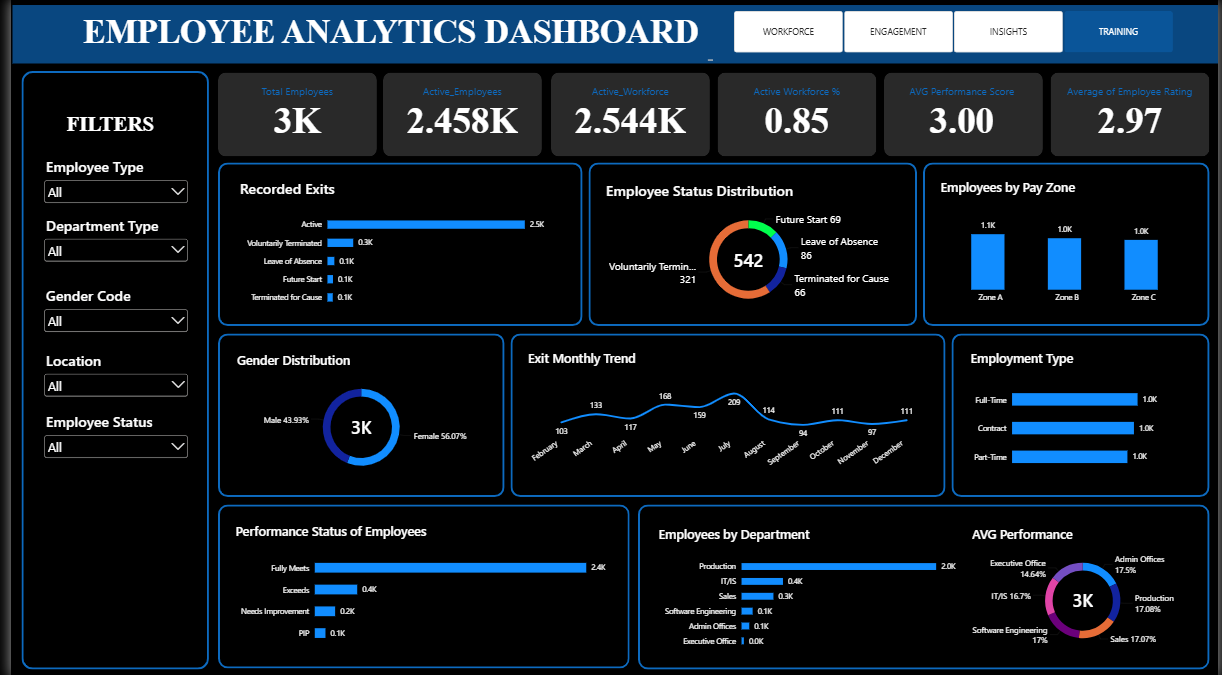

This screenshot's page, from the dashboard's own definition file:
{"tool":"powerbi","page":{"name":"WORKFORCE","canvas":[1920,1080],"ordinal":0},"visuals":[{"type":"group","id":"g1","title":"Group 2","box":[329.3,116.9,1577.1,133.6],"z":0},{"type":"shape","box":[1.7,9.5,1918.3,93.1],"z":1000},{"type":"textbox","title":"EMPLOYEE ANALYTICS DASHBOARD","box":[114.5,21.5,1002.1,76.3],"z":2000},{"type":"shape","box":[16.7,114.5,298.2,952],"z":3000},{"type":"group","id":"g2","title":"Group 3","box":[47.5,249.5,238.6,496.1],"z":4000},{"type":"slicer","fields":{"Values":["Employee_Data_Combined_and_Cleaned.Employee Type"]},"box":[47.7,249.5,238.1,90.7],"z":4000,"group":"g2"},{"type":"shape","box":[329.3,116.9,252.8,133.6],"z":5000,"group":"g3"},{"type":"textbox","title":"FILTERS","box":[88.3,178.9,150.3,45.3],"z":5000},{"type":"slicer","fields":{"Values":["Employee_Data_Combined_and_Cleaned.Department Type"]},"box":[47.7,343,238.1,90.7],"z":5000,"group":"g2"},{"type":"cardVisual","fields":{"Data":["Count(Employee_Data_Combined_and_Cleaned.Employee ID)"]},"box":[338.8,119.3,233.8,126.5],"z":6000},{"type":"slicer","fields":{"Values":["Employee_Data_Combined_and_Cleaned.Gender Code"]},"box":[47.7,453.6,238.1,90.7],"z":6000,"group":"g2"},{"type":"shape","box":[591.5,116.9,252.8,133.6],"z":7000,"group":"g3"},{"type":"cardVisual","fields":{"Data":["Employee_Data_Combined_and_Cleaned.Active_Employees"]},"box":[601.3,119.3,233.8,126.5],"z":7000},{"type":"slicer","fields":{"Values":["Employee_Data_Combined_and_Cleaned.Location"]},"box":[47.5,558.4,238.6,78.7],"z":7000,"group":"g2"},{"type":"shape","box":[858.4,116.9,252.8,133.6],"z":8000,"group":"g3"},{"type":"cardVisual","fields":{"Data":["Employee_Data_Combined_and_Cleaned.Active_Workforce"]},"box":[868.5,119.3,233.8,126.5],"z":8000},{"type":"slicer","fields":{"Values":["Employee_Data_Combined_and_Cleaned.Employee Status"]},"box":[47.7,654.9,238.1,90.7],"z":8000,"group":"g2"},{"type":"shape","box":[1122.9,116.9,252.8,133.6],"z":9000,"group":"g3"},{"type":"cardVisual","fields":{"Data":["Employee_Data_Combined_and_Cleaned.Active Workforce %"]},"box":[1133.3,119.3,233.8,126.5],"z":9000},{"type":"shape","box":[1387.5,116.9,252.8,133.6],"z":10000,"group":"g3"},{"type":"shape","box":[1653.5,116.9,252.9,133.6],"z":10000,"group":"g1"},{"type":"cardVisual","fields":{"Data":["Avg(Employee_Data_Combined_and_Cleaned.Performance Score)"]},"box":[1395.8,119.3,233.8,126.5],"z":10000},{"type":"cardVisual","fields":{"Data":["Avg(Employee_Data_Combined_and_Cleaned.Employee Rating)"]},"box":[1663,119.3,233.8,126.5],"z":11000},{"type":"group","id":"g3","title":"Group 1","box":[329.3,116.9,1311,133.6],"z":11001,"group":"g1"},{"type":"shape","box":[328.8,805,654.8,260.8],"z":12000},{"type":"shape","box":[329.3,260.1,579.8,260.1],"z":13000},{"type":"shape","box":[329.3,532.1,455.7,260.1],"z":14000},{"type":"shape","box":[918.6,260.1,522.5,260.1],"z":15000},{"type":"shape","box":[1450.6,260.1,455.7,260.1],"z":16000},{"type":"shape","box":[794.5,532.1,691.9,260.1],"z":17000},{"type":"shape","box":[1496,532.1,410.4,260.1],"z":18000},{"type":"shape","box":[997.3,804.1,909,262.5],"z":19000},{"type":"donutChart","title":"Non-Active Employee Status Breakdown","fields":{"Category":["Employee_Data_Combined_and_Cleaned.Employee Status"],"Y":["CountNonNull(Employee_Data_Combined_and_Cleaned.Employee ID)"]},"box":[929.8,275,484.7,235.3],"z":20000},{"type":"columnChart","title":"Employees by Pay Zone","fields":{"Category":["Employee_Data_Combined_and_Cleaned.Pay Zone"],"Y":["CountNonNull(Employee_Data_Combined_and_Cleaned.Employee ID)"]},"box":[1462.6,272,434.2,231.4],"z":21000},{"type":"lineChart","title":"Exit Monthly Trend","fields":{"Category":["Employee_Data_Combined_and_Cleaned.Exit Date.Variation.Date Hierarchy.Month"],"Y":["Count(Employee_Data_Combined_and_Cleaned.Employee ID)"]},"box":[806.4,544,656.1,231.4],"z":22000},{"type":"barChart","title":"Employment Type","fields":{"Category":["Employee_Data_Combined_and_Cleaned.Employee Type"],"Y":["Count(Employee_Data_Combined_and_Cleaned.Employee ID)"]},"box":[1510.3,544,386.5,231.4],"z":23000},{"type":"donutChart","title":"Gender Distribution","fields":{"Category":["Employee_Data_Combined_and_Cleaned.Gender Code"],"Y":["CountNonNull(Employee_Data_Combined_and_Cleaned.Employee ID)"]},"box":[343.6,546.4,427.1,229],"z":24000},{"type":"barChart","title":"Performance Status of Employees","fields":{"Category":["Employee_Data_Combined_and_Cleaned.Performance Status"],"Y":["CountNonNull(Employee_Data_Combined_and_Cleaned.Employee ID)"]},"box":[340.2,819.2,620.8,229.6],"z":25000},{"type":"donutChart","title":"AVG Performance ","fields":{"Category":["Employee_Data_Combined_and_Cleaned.Department Type"],"Y":["Avg(Employee_Data_Combined_and_Cleaned.Performance Score)"]},"box":[1512.7,823.1,384.1,226.7],"z":26000},{"type":"barChart","title":"Employees by Department","fields":{"Category":["Employee_Data_Combined_and_Cleaned.Department Type"],"Y":["Count(Employee_Data_Combined_and_Cleaned.Employee ID)"]},"box":[1014.8,822.1,547.1,229.6],"z":27000},{"type":"barChart","title":"Employee Count by Status","fields":{"Category":["Employee_Data_Combined_and_Cleaned.Employee Status"],"Y":["Count(Employee_Data_Combined_and_Cleaned.Employee ID)"]},"box":[348.7,272.1,515.9,238.1],"z":28000},{"type":"bookmarkNavigator","box":[1150,19.1,701.5,66.8],"z":29000}]}

Visuals, with their boxes in screenshot pixels (x1, y1, x2, y2), scaled from the page's 1920x1080 canvas onto the 1222x675 screenshot:
"Group 2" group: 210/73/1213/157
shape: 1/6/1221/64
"EMPLOYEE ANALYTICS DASHBOARD" textbox: 73/13/711/61
shape: 11/72/200/667
"Group 3" group: 30/156/182/466
slicer - Employee_Data_Combined_and_Cleaned.Employee Type: 30/156/182/213
shape: 210/73/370/157
"FILTERS" textbox: 56/112/152/140
slicer - Employee_Data_Combined_and_Cleaned.Department Type: 30/214/182/271
cardVisual - Count(Employee_Data_Combined_and_Cleaned.Employee ID): 216/75/364/154
slicer - Employee_Data_Combined_and_Cleaned.Gender Code: 30/284/182/340
shape: 376/73/537/157
cardVisual - Employee_Data_Combined_and_Cleaned.Active_Employees: 383/75/532/154
slicer - Employee_Data_Combined_and_Cleaned.Location: 30/349/182/398
shape: 546/73/707/157
cardVisual - Employee_Data_Combined_and_Cleaned.Active_Workforce: 553/75/702/154
slicer - Employee_Data_Combined_and_Cleaned.Employee Status: 30/409/182/466
shape: 715/73/876/157
cardVisual - Employee_Data_Combined_and_Cleaned.Active Workforce %: 721/75/870/154
shape: 883/73/1044/157
shape: 1052/73/1213/157
cardVisual - Avg(Employee_Data_Combined_and_Cleaned.Performance Score): 888/75/1037/154
cardVisual - Avg(Employee_Data_Combined_and_Cleaned.Employee Rating): 1058/75/1207/154
"Group 1" group: 210/73/1044/157
shape: 209/503/626/666
shape: 210/163/579/325
shape: 210/333/500/495
shape: 585/163/917/325
shape: 923/163/1213/325
shape: 506/333/946/495
shape: 952/333/1213/495
shape: 635/503/1213/667
"Non-Active Employee Status Breakdown" donutChart: 592/172/900/319
"Employees by Pay Zone" columnChart: 931/170/1207/315
"Exit Monthly Trend" lineChart: 513/340/931/485
"Employment Type" barChart: 961/340/1207/485
"Gender Distribution" donutChart: 219/342/491/485
"Performance Status of Employees" barChart: 217/512/612/656
"AVG Performance " donutChart: 963/514/1207/656
"Employees by Department" barChart: 646/514/994/657
"Employee Count by Status" barChart: 222/170/550/319
bookmarkNavigator: 732/12/1178/54
